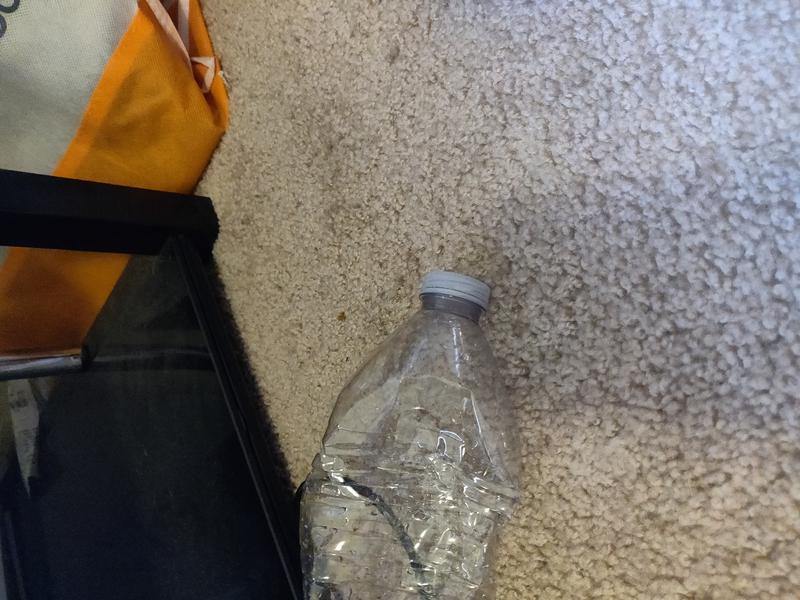bottle: (290, 268, 522, 600)
